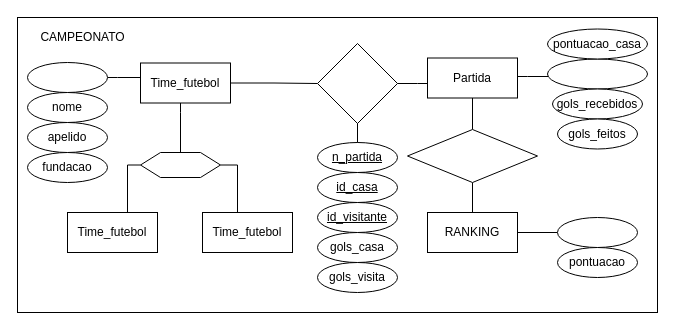
This 675x330 diagram has some shape labels left out. Each missing label, with the centre of its shape:
"colocado" belongs at point 597,232.
"D.T." belongs at point 180,165.
"Fim Campeonato" belongs at point 472,155.
"id_time" belongs at point 67,77.
"Joga" belongs at point 357,83.
"pontuacao_visita" belongs at point 597,73.
